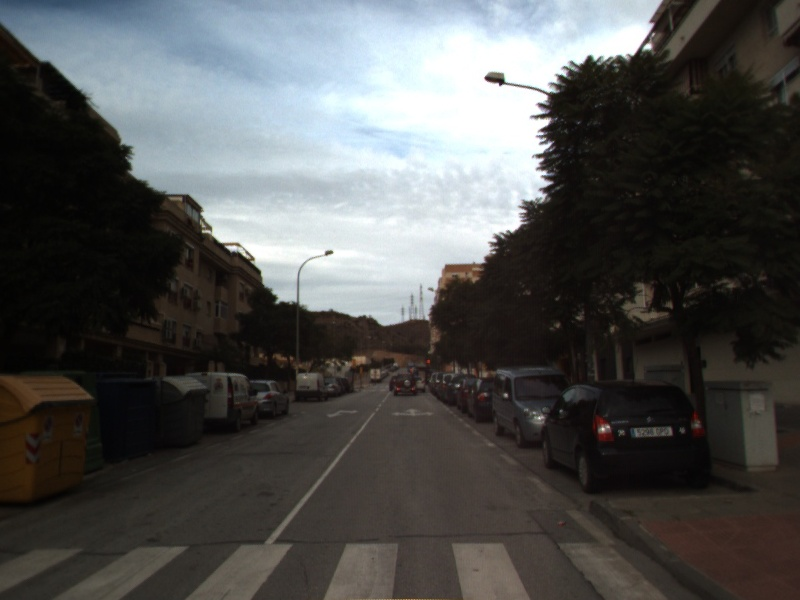STRAIGHT_LEFT_RIGHT: (390, 406, 436, 419)
